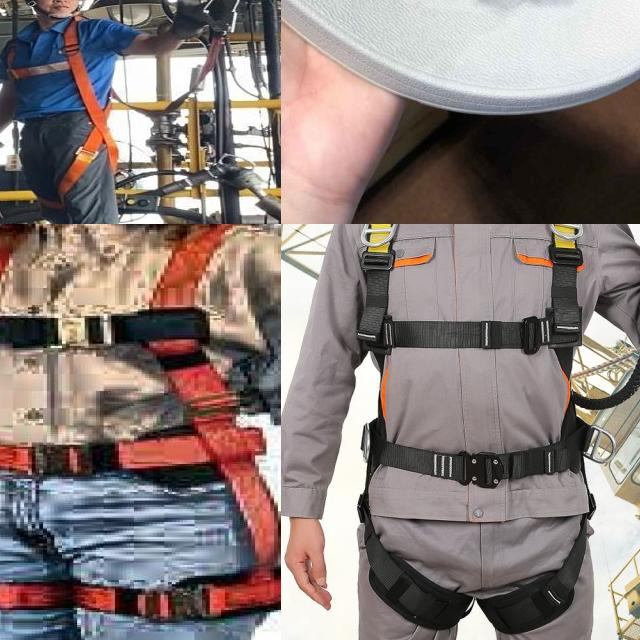Harness: (0, 224, 281, 624), (358, 224, 596, 638), (8, 19, 120, 209)
Sandals: (281, 0, 640, 128)
